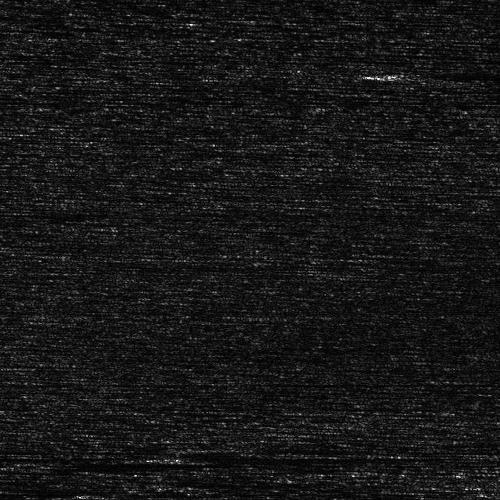object: (145, 454, 238, 461), (367, 70, 450, 77)
shadow: (192, 454, 425, 461), (409, 70, 500, 77), (0, 475, 68, 480)
